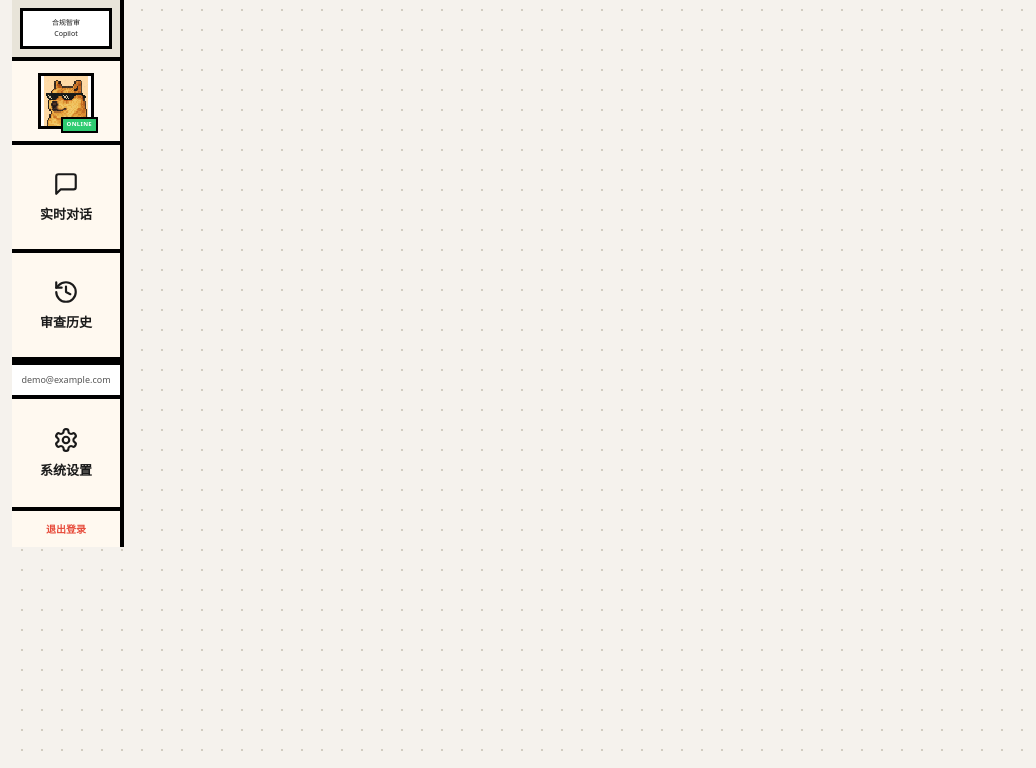
Test: SideNav › deletes a review history entry after confirmation
This screenshot has width=1036, height=768.
Click the button "审查历史" at (66, 307), box [12, 253, 120, 361]
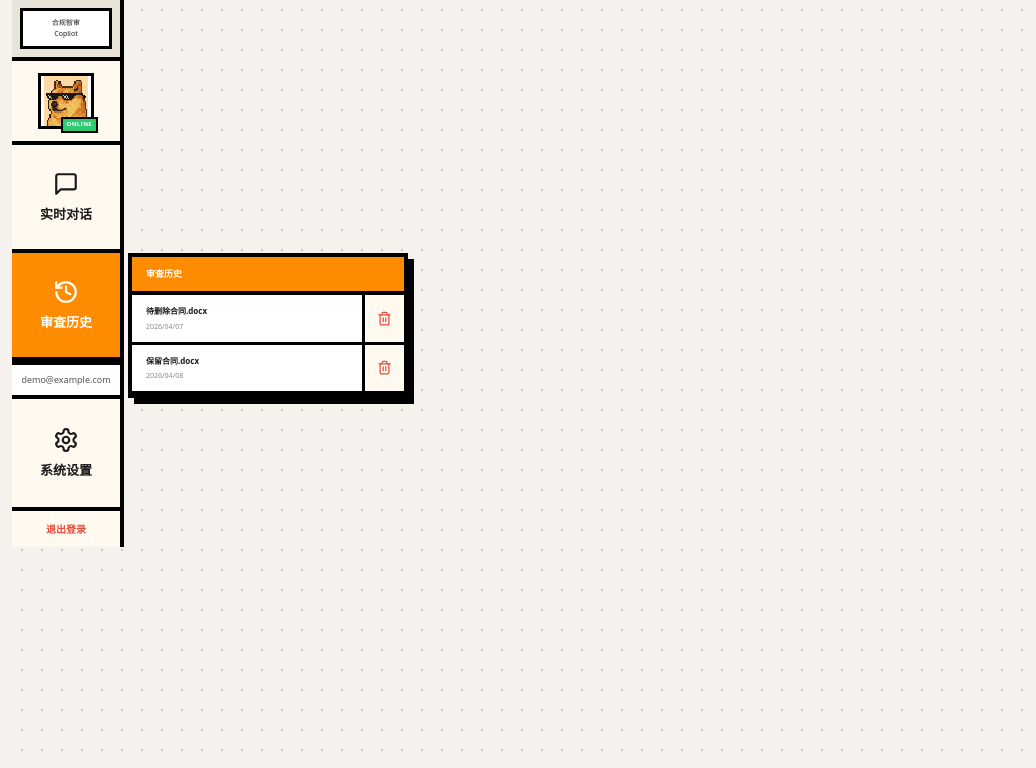
Click the button named "删除审查历史 待删除合同.docx" at (383, 319), box [362, 295, 404, 342]
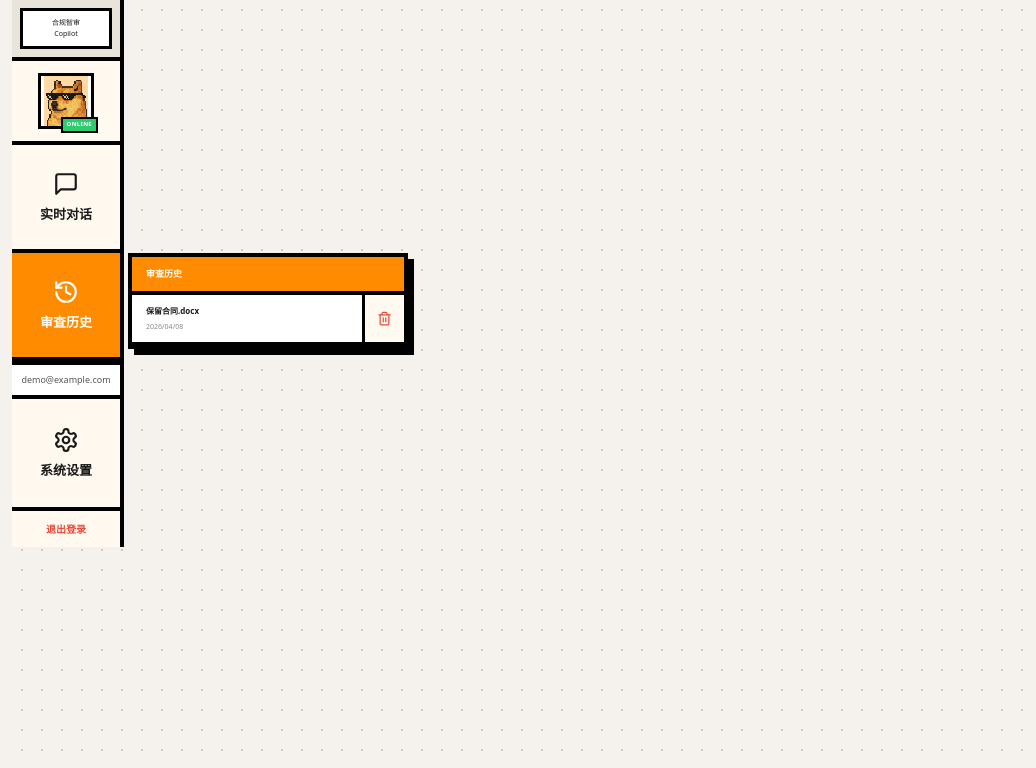
Result: the text "保留合同.docx" is shown at [146, 305, 199, 316]
Result: the button "待删除合同.docx" is gone
